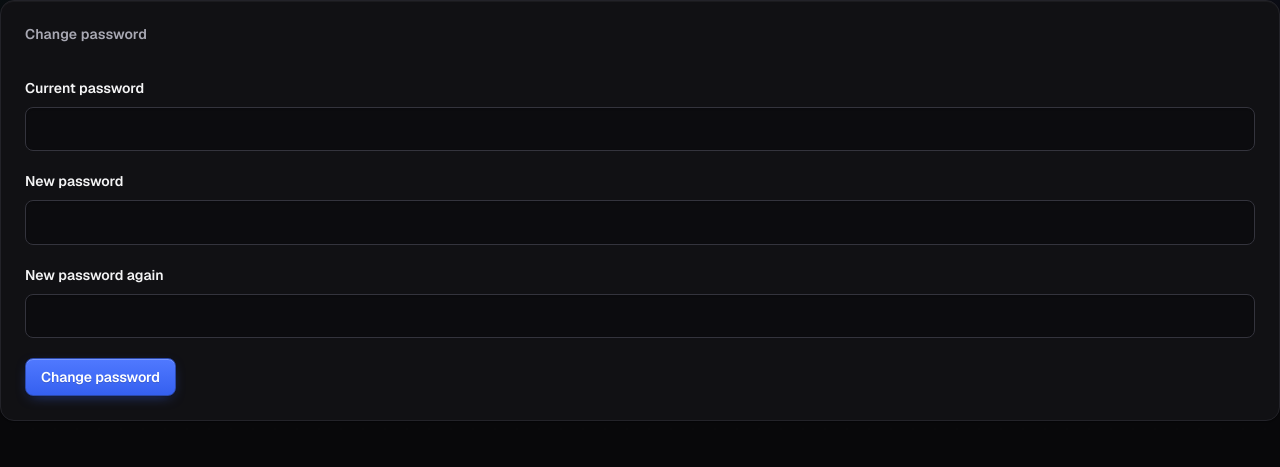
Test case: AccountSettings › puts a wrong current password on its field
The image size is (1280, 467).
Type "wrong one" into the password field labelled "Current password". click: (640,129)
box: 25,107 -> 1255,151
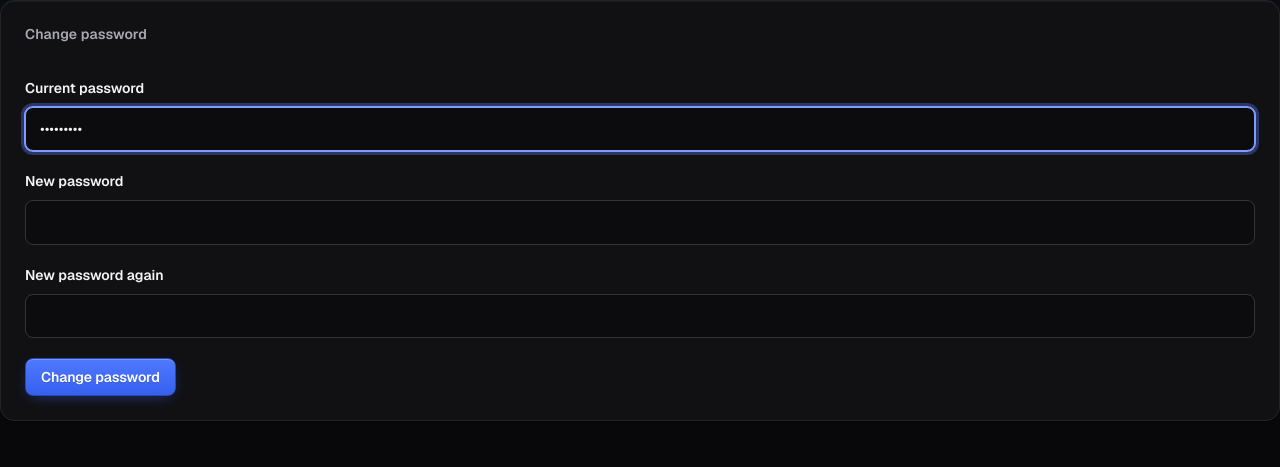
Type "brand new password" into the password field labelled "New password". click: (640,223)
box: 25,200 -> 1255,245
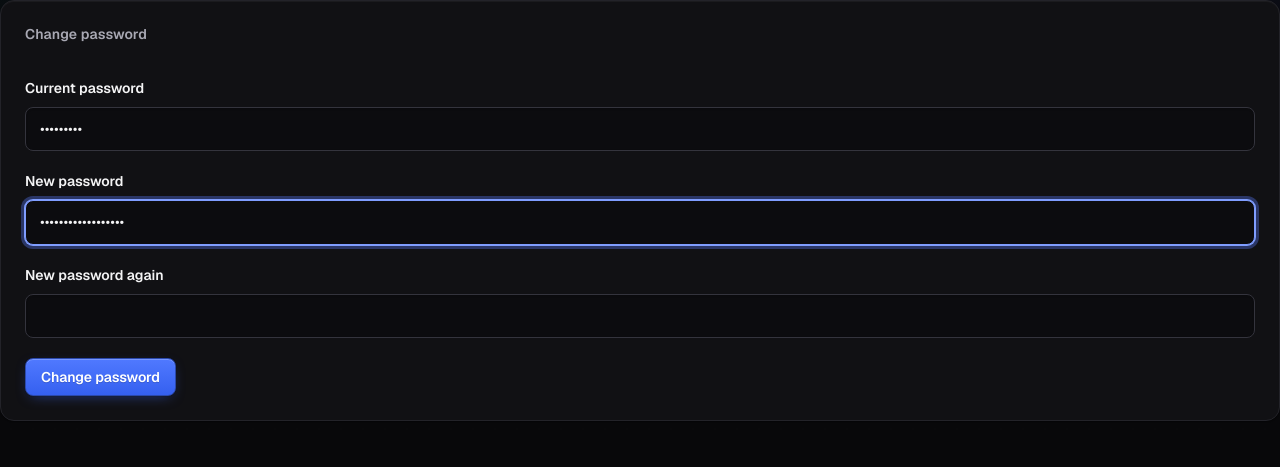
Type "brand new password" into the password field labelled "New password again". click: (640,316)
box: 25,294 -> 1255,338
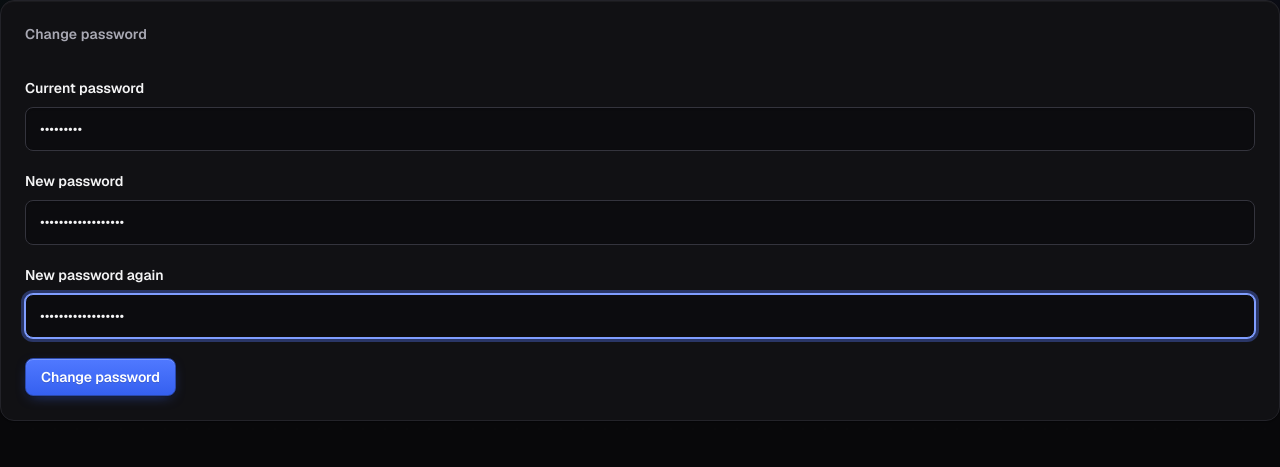
Click the button "Change password". click: (100,377)
box: 25,358 -> 176,396
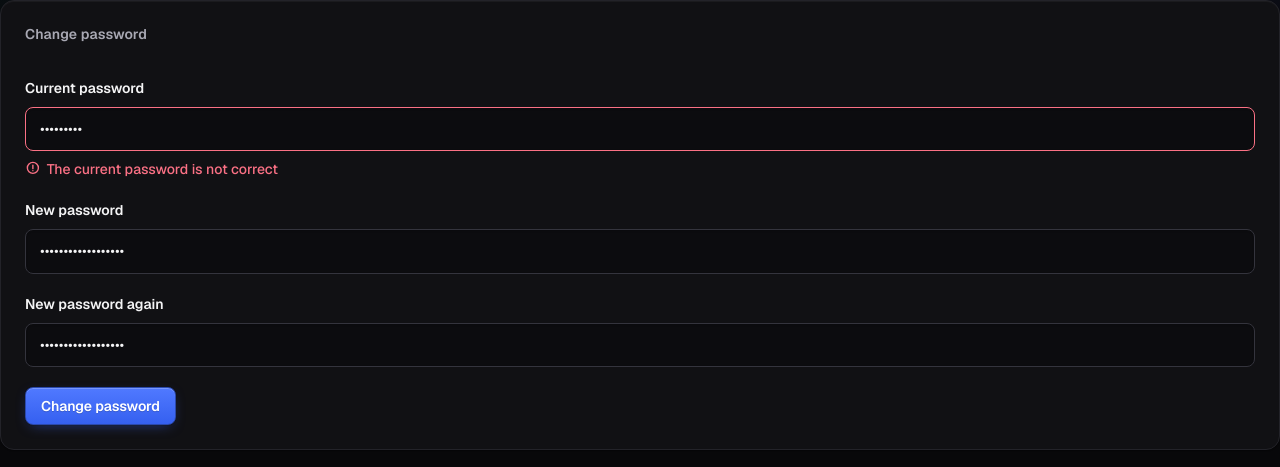
Check: the text "The current password is not correct" is shown, box 25,160 -> 278,178
